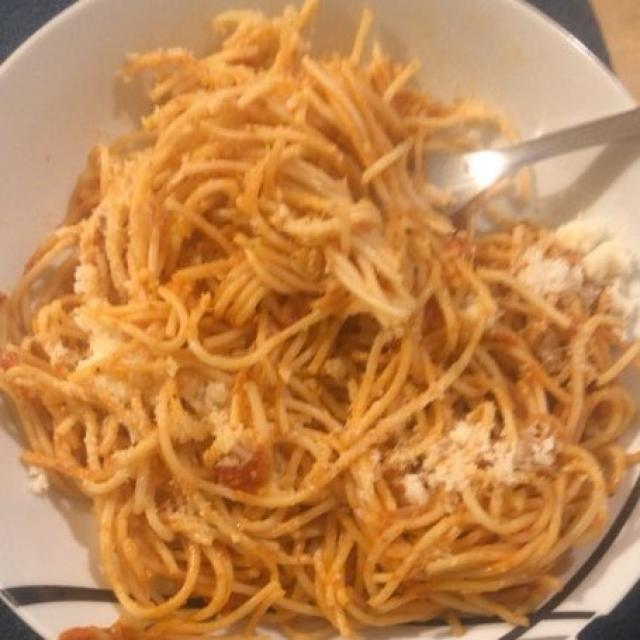cheese: (1, 7, 628, 637)
pasta: (13, 20, 632, 632)
